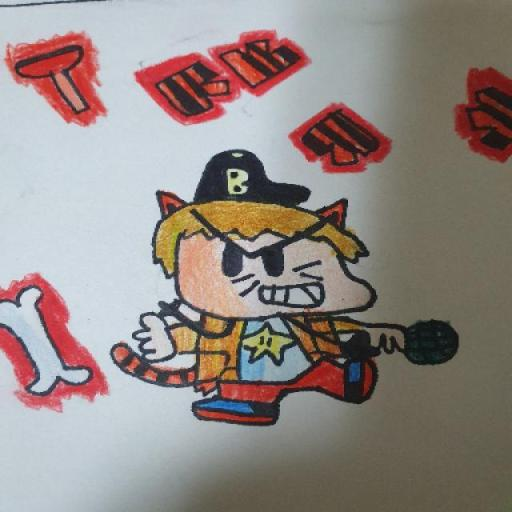person: (111, 149, 458, 433)
